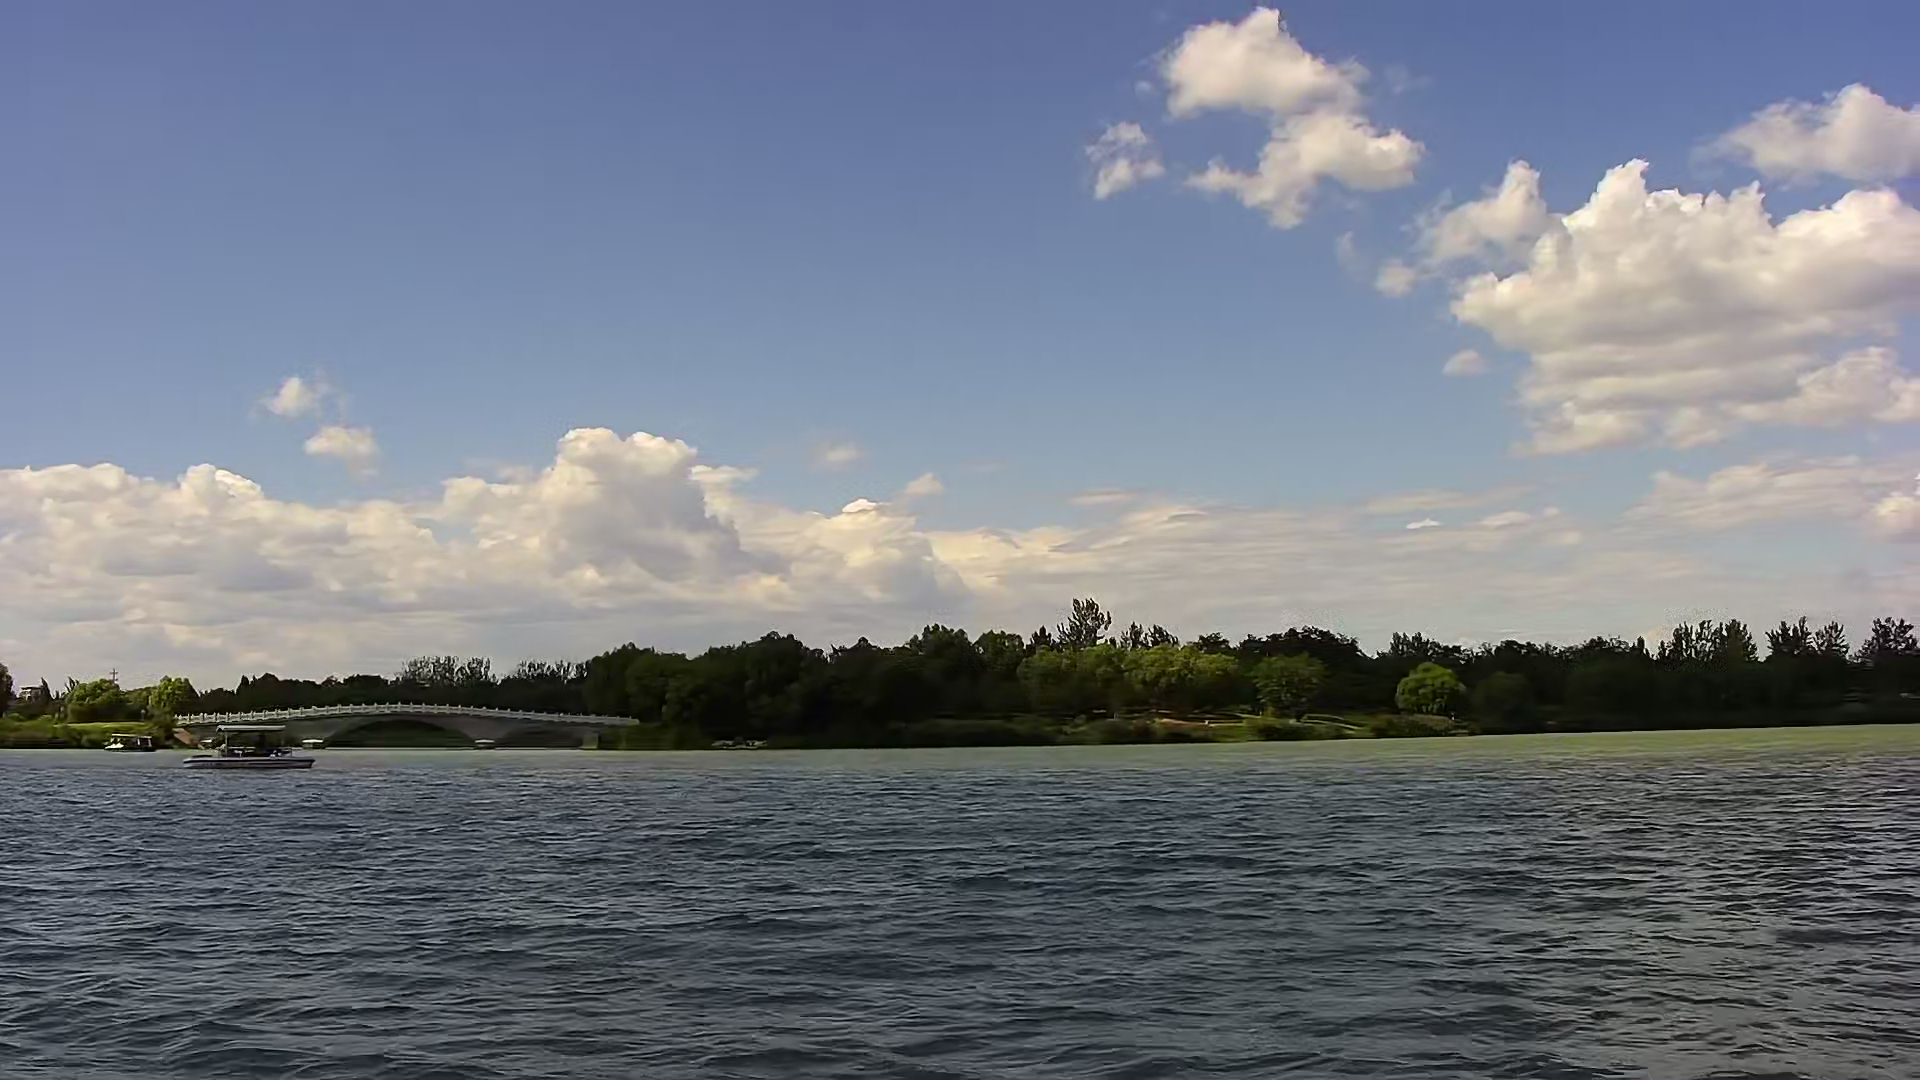boat: (174, 725, 315, 773)
bridge: (212, 704, 659, 752)
